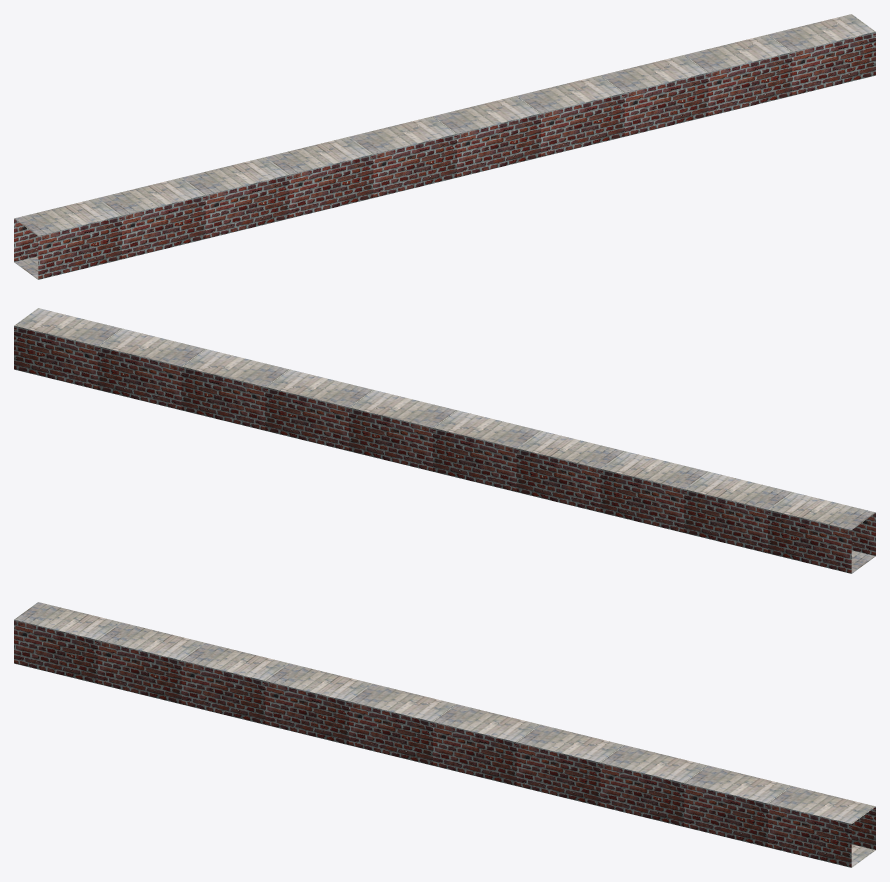
Rendered from tunnel.glb.
The picture shows the model from 3 angles, top to bottom: view 1: azimuth 30°, elevation 25°; view 2: azimuth 150°, elevation 25°; view 3: azimuth 330°, elevation 25°; orthographic projection.
Visible parts, largest first — view 1: Plane.001, Plane.028, Plane.030, Plane.017, Plane.013, Plane.011, Plane.040, Plane.005, Plane.036, Plane.024, Plane.002, Plane.035 (+9 smaller); view 2: Plane.003, Plane.026, Plane.032, Plane.019, Plane.015, Plane.009, Plane.038, Plane.007, Plane.034, Plane.022, Plane.002, Plane.035 (+9 smaller); view 3: Plane.036, Plane.011, Plane.017, Plane.030, Plane.024, Plane.005, Plane.028, Plane.001, Plane.040, Plane.013, Plane.002, Plane.035 (+9 smaller).
Part boxes in pixels (box(x1,y1,x2,y2)): Plane.001: box(708, 52, 792, 116); Plane.028: box(289, 154, 373, 218); Plane.030: box(205, 175, 289, 238); Plane.017: box(624, 72, 708, 136); Plane.013: box(457, 113, 540, 177); Plane.011: box(541, 93, 624, 157); Plane.040: box(38, 215, 121, 279); Plane.005: box(792, 32, 875, 95); Plane.036: box(122, 195, 205, 259); Plane.024: box(373, 134, 456, 197); Plane.002: box(685, 34, 791, 72); Plane.035: box(98, 177, 205, 215); Plane.003: box(97, 346, 181, 410); Plane.026: box(516, 448, 600, 512); Plane.032: box(600, 469, 684, 532); Plane.019: box(181, 366, 265, 430); Plane.015: box(349, 407, 432, 471); Plane.009: box(265, 387, 348, 451); Plane.038: box(768, 509, 851, 573); Plane.007: box(14, 326, 97, 389); Plane.034: box(684, 489, 767, 553); Plane.022: box(433, 428, 516, 491); Plane.002: box(98, 328, 204, 366); Plane.035: box(684, 471, 791, 509); Plane.036: box(97, 640, 181, 704); Plane.011: box(516, 742, 600, 806); Plane.017: box(600, 763, 684, 826); Plane.030: box(181, 660, 265, 724); Plane.024: box(349, 701, 432, 765); Plane.005: box(768, 803, 851, 867); Plane.028: box(265, 681, 348, 745); Plane.001: box(684, 783, 767, 847); Plane.040: box(14, 620, 97, 683); Plane.013: box(433, 722, 516, 785); Plane.002: box(684, 765, 791, 803); Plane.035: box(98, 622, 204, 660).
Size of the model in its own units: 40 by 2 by 2.
40 materials, 40 textured.
